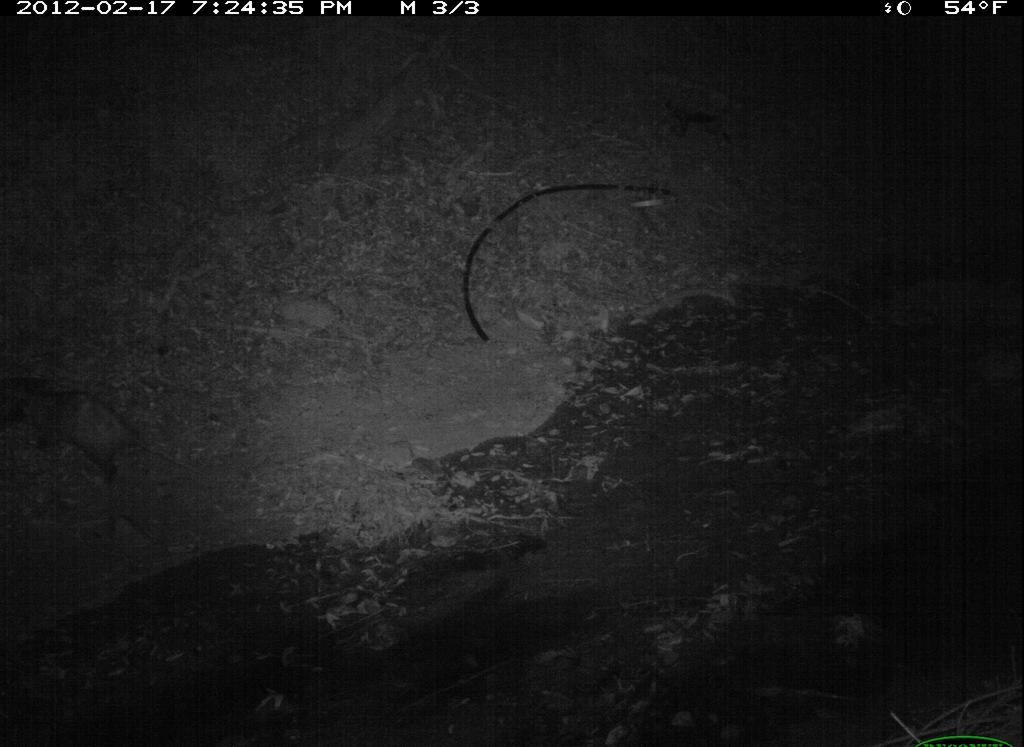opossum: (6, 358, 200, 506)
